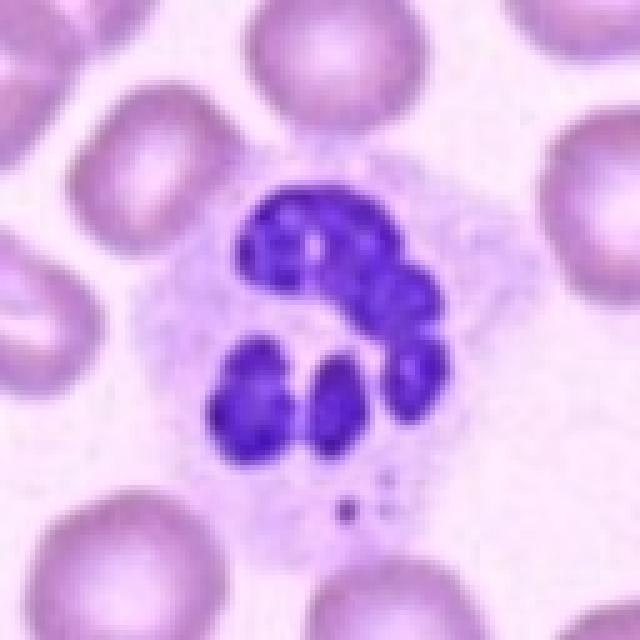neutro: (116, 124, 564, 530)
